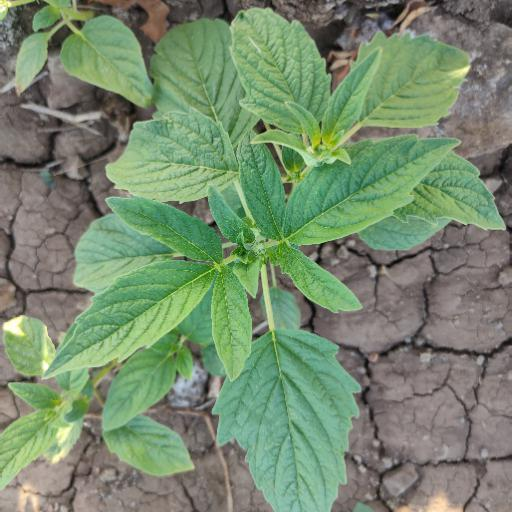crop: (59, 13, 498, 492)
